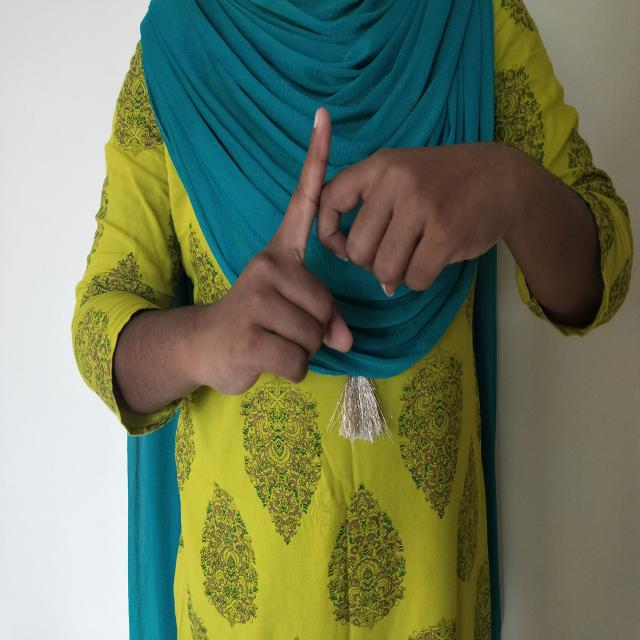K: (198, 89, 526, 417)
